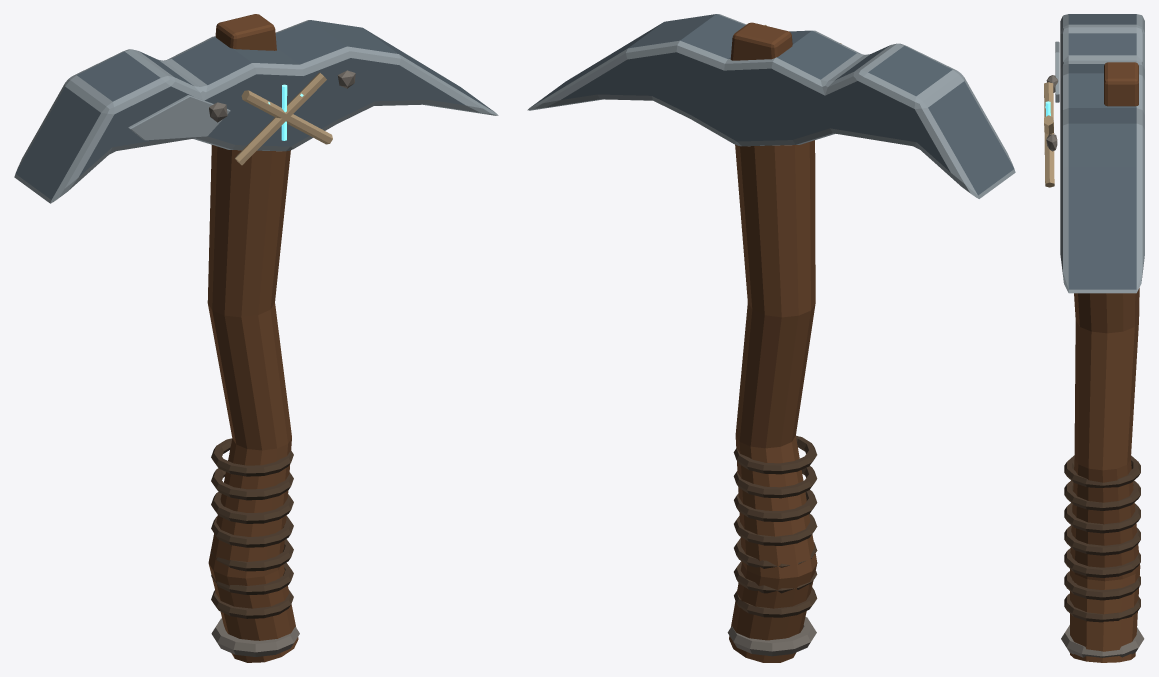
File: BH_PICK_P01_Picareta_Runica_de_Pedra_V02.glb
The picture shows the model from 3 angles, left to right: view 1: azimuth 30°, elevation 25°; view 2: azimuth 150°, elevation 25°; view 3: azimuth 270°, elevation 25°; orthographic projection. The views are drawn at different scales.
Parts seen in each view (by area): view 1: P01 | carved double-tooth slate.001, P01 | crooked chestnut haft.001, P01 | split stone face.001, P01 | wooden locking wedge.001, P01 | iron pommel.001, P01 | diagonal lashing.002, P01 | grip leather wrap 6.001, P01 | diagonal lashing.003, P01 | grip leather wrap 5.001, P01 | grip leather wrap 4.001, P01 | grip leather wrap 3.001, P01 | grip leather wrap 0.001 (+2 smaller); view 2: P01 | carved double-tooth slate.001, P01 | crooked chestnut haft.001, P01 | wooden locking wedge.001, P01 | iron pommel.001, P01 | grip leather wrap 6.001, P01 | grip leather wrap 5.001, P01 | grip leather wrap 4.001, P01 | grip leather wrap 3.001, P01 | grip leather wrap 0.001; view 3: P01 | carved double-tooth slate.001, P01 | crooked chestnut haft.001, P01 | wooden locking wedge.001, P01 | grip leather wrap 3.001, P01 | iron pommel.001, P01 | grip leather wrap 2.001, P01 | grip leather wrap 4.001, P01 | grip leather wrap 5.001, P01 | grip leather wrap 1.001, P01 | grip leather wrap 6.001, P01 | grip leather wrap 0.001, P01 | diagonal lashing.003 (+2 smaller).
Boxes of the visible parts, <box> form: P01 | carved double-tooth slate.001: <box>14,20,498,203</box>; P01 | crooked chestnut haft.001: <box>207,145,298,662</box>; P01 | split stone face.001: <box>128,95,230,140</box>; P01 | wooden locking wedge.001: <box>215,14,276,50</box>; P01 | iron pommel.001: <box>211,618,299,656</box>; P01 | diagonal lashing.002: <box>235,72,326,165</box>; P01 | grip leather wrap 6.001: <box>211,438,293,476</box>; P01 | diagonal lashing.003: <box>241,90,332,144</box>; P01 | grip leather wrap 5.001: <box>211,468,293,500</box>; P01 | grip leather wrap 4.001: <box>211,492,293,523</box>; P01 | grip leather wrap 3.001: <box>211,516,293,547</box>; P01 | grip leather wrap 0.001: <box>211,589,293,618</box>; P01 | carved double-tooth slate.001: <box>527,14,1015,198</box>; P01 | crooked chestnut haft.001: <box>729,140,817,662</box>; P01 | wooden locking wedge.001: <box>730,22,792,60</box>; P01 | iron pommel.001: <box>727,617,816,656</box>; P01 | grip leather wrap 6.001: <box>733,435,817,474</box>; P01 | grip leather wrap 5.001: <box>733,466,817,498</box>; P01 | grip leather wrap 4.001: <box>734,490,817,521</box>; P01 | grip leather wrap 3.001: <box>734,514,817,545</box>; P01 | grip leather wrap 0.001: <box>734,587,817,617</box>; P01 | carved double-tooth slate.001: <box>1060,14,1144,293</box>; P01 | crooked chestnut haft.001: <box>1070,288,1140,662</box>; P01 | wooden locking wedge.001: <box>1104,62,1138,106</box>; P01 | grip leather wrap 3.001: <box>1064,525,1140,555</box>; P01 | iron pommel.001: <box>1061,625,1144,657</box>; P01 | grip leather wrap 2.001: <box>1064,548,1140,577</box>; P01 | grip leather wrap 4.001: <box>1064,503,1140,533</box>; P01 | grip leather wrap 5.001: <box>1064,480,1140,510</box>; P01 | grip leather wrap 1.001: <box>1064,571,1140,600</box>; P01 | grip leather wrap 6.001: <box>1064,455,1140,487</box>; P01 | grip leather wrap 0.001: <box>1064,593,1140,622</box>; P01 | diagonal lashing.003: <box>1044,82,1054,187</box>.
Bounding box in the file's own units: 2.08 × 2.76 × 0.4299.
